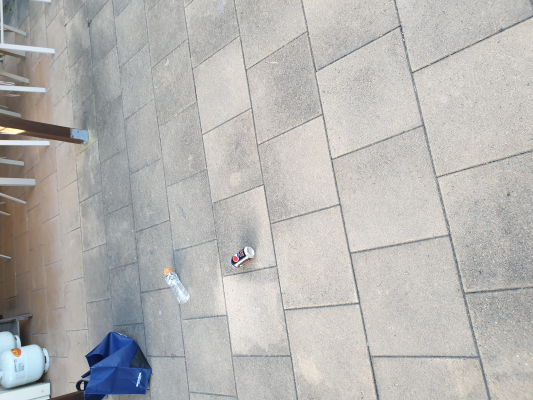Plastic Bottle: (164, 267, 190, 304), (230, 246, 255, 268)
